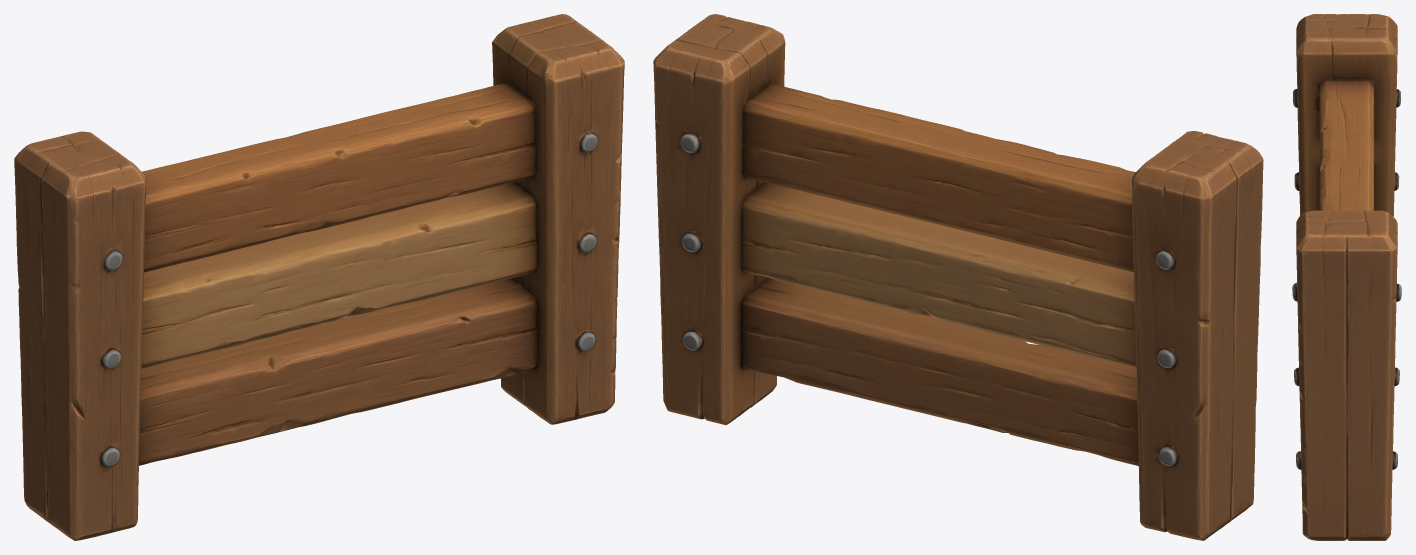
Rendered from wooden_fence_1k_real.glb.
The picture shows the model from 3 angles, left to right: view 1: azimuth 30°, elevation 25°; view 2: azimuth 150°, elevation 25°; view 3: azimuth 270°, elevation 25°; orthographic projection. The views are drawn at different scales.
Visible parts, largest first — view 1: tripo_node_7d14ec9f-f6cc-48b4-b49e-8050bb7c3a4f; view 2: tripo_node_7d14ec9f-f6cc-48b4-b49e-8050bb7c3a4f; view 3: tripo_node_7d14ec9f-f6cc-48b4-b49e-8050bb7c3a4f.
Boxes of the visible parts, x1,y1,x2,y2 form: tripo_node_7d14ec9f-f6cc-48b4-b49e-8050bb7c3a4f: (14, 14, 624, 540); tripo_node_7d14ec9f-f6cc-48b4-b49e-8050bb7c3a4f: (653, 14, 1263, 540); tripo_node_7d14ec9f-f6cc-48b4-b49e-8050bb7c3a4f: (1292, 14, 1401, 540).
Bounding box in the file's own units: 1 × 0.6237 × 0.201.
Materials: 1 (1 with a texture image).
